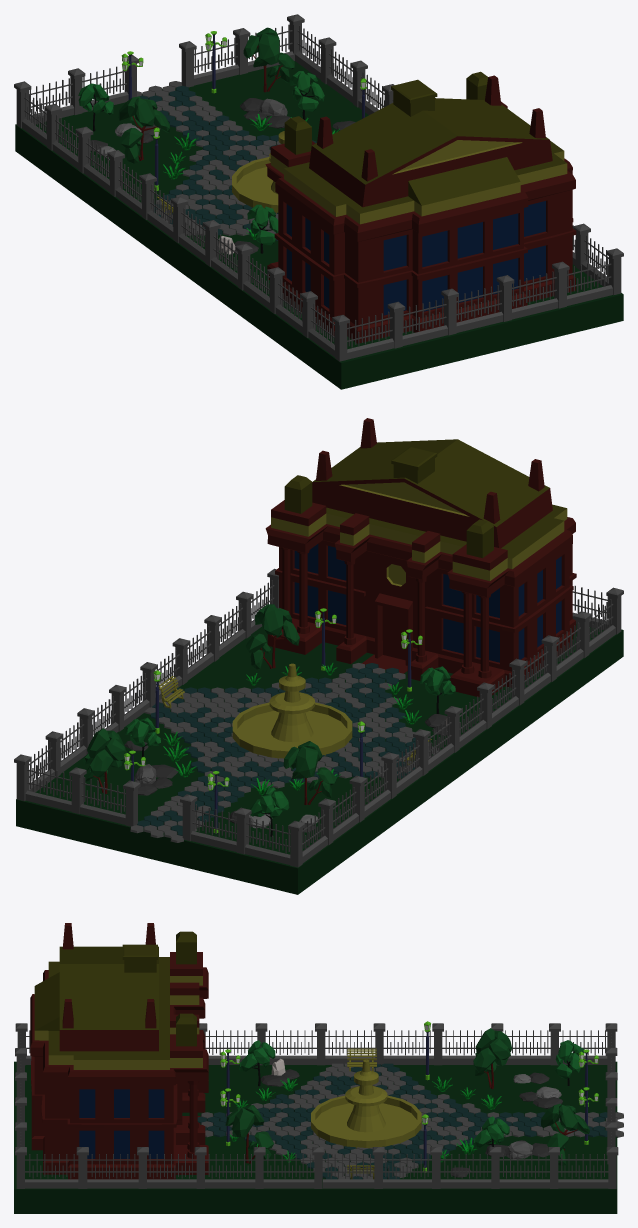
The model's file is Theater.FBX.
3 renders of one model, top to bottom at view 1: azimuth 30°, elevation 25°; view 2: azimuth 150°, elevation 25°; view 3: azimuth 270°, elevation 25°, orthographic. The views are drawn at different scales.
Visible parts, largest first — view 1: Theater; view 2: Theater; view 3: Theater.
Part boxes in pixels (x1,y1,x2,y2): Theater: (14, 14, 623, 389); Theater: (14, 418, 623, 894); Theater: (14, 923, 623, 1213).
Size of the model in its own units: 10096 by 7311 by 20222.
